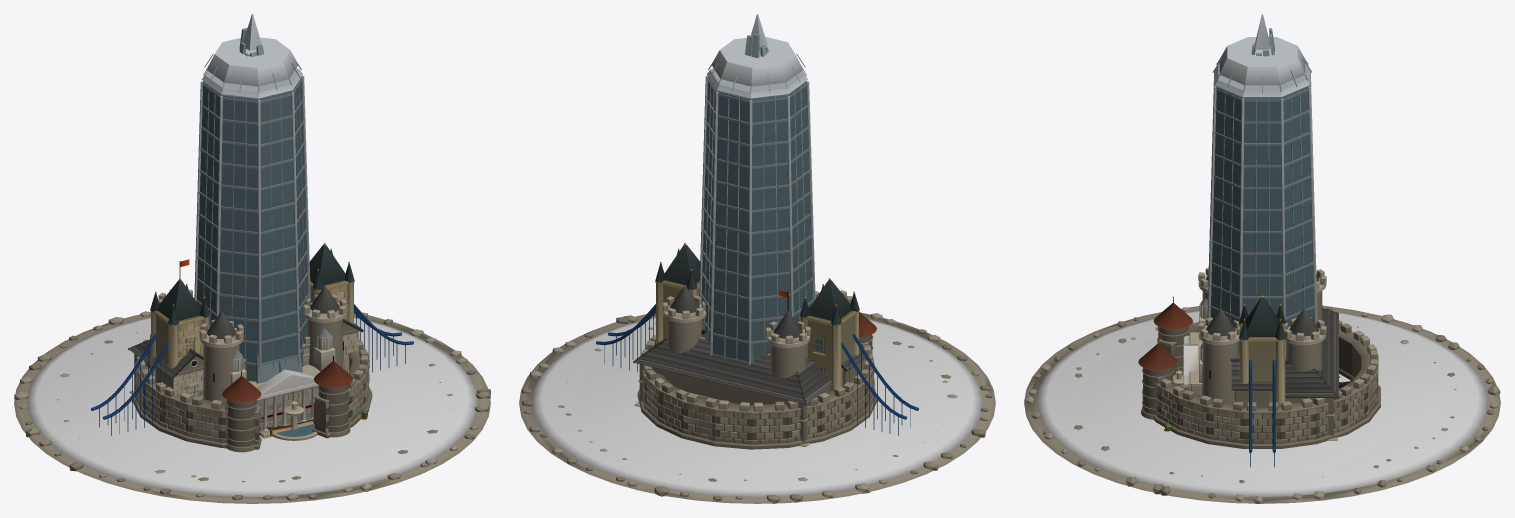
File: bld.glb
3 renders of one model, left to right at view 1: azimuth 30°, elevation 25°; view 2: azimuth 150°, elevation 25°; view 3: azimuth 270°, elevation 25°, orthographic.
Parts seen in each view (by area): view 1: bld_isle_iom__body, bld_b22__all, bld_thorne__all, bld_isle_iom__all, bld_towerbridge__all, bld_isle_thorne__body, bld_castle__all, bld_stpauls__all, bld_manor__all, bld_shard__all; view 2: bld_b22__all, bld_isle_iom__body, bld_thorne__all, bld_isle_thorne__body, bld_towerbridge__all, bld_manor__all, bld_isle_iom__all, bld_castle__all, bld_shard__all; view 3: bld_isle_iom__body, bld_b22__all, bld_thorne__all, bld_isle_thorne__body, bld_isle_iom__all, bld_castle__all, bld_towerbridge__all, bld_manor__all, bld_stpauls__all, bld_shard__all.
Part boxes in pixels (<box>): bld_isle_iom__body: <box>27,317,477,497</box>; bld_b22__all: <box>194,37,311,419</box>; bld_thorne__all: <box>132,334,372,452</box>; bld_isle_iom__all: <box>14,311,490,503</box>; bld_towerbridge__all: <box>91,243,413,435</box>; bld_isle_thorne__body: <box>72,338,432,474</box>; bld_castle__all: <box>158,259,346,403</box>; bld_stpauls__all: <box>231,329,335,438</box>; bld_manor__all: <box>128,318,367,440</box>; bld_shard__all: <box>239,14,302,383</box>; bld_b22__all: <box>699,36,815,365</box>; bld_isle_iom__body: <box>532,317,982,496</box>; bld_thorne__all: <box>637,312,877,449</box>; bld_isle_thorne__body: <box>578,338,933,474</box>; bld_towerbridge__all: <box>596,243,918,435</box>; bld_manor__all: <box>633,318,868,447</box>; bld_isle_iom__all: <box>519,312,995,503</box>; bld_castle__all: <box>662,286,852,378</box>; bld_shard__all: <box>709,14,768,363</box>; bld_isle_iom__body: <box>1037,310,1487,496</box>; bld_b22__all: <box>1207,37,1317,354</box>; bld_thorne__all: <box>1138,296,1380,448</box>; bld_isle_thorne__body: <box>1082,337,1442,474</box>; bld_isle_iom__all: <box>1024,305,1500,503</box>; bld_castle__all: <box>1198,267,1326,402</box>; bld_towerbridge__all: <box>1239,295,1285,467</box>; bld_manor__all: <box>1164,308,1338,440</box>; bld_stpauls__all: <box>1182,297,1207,395</box>; bld_shard__all: <box>1251,14,1286,349</box>.
Bounding box in the file's own units: 40.01 × 42.46 × 40.
